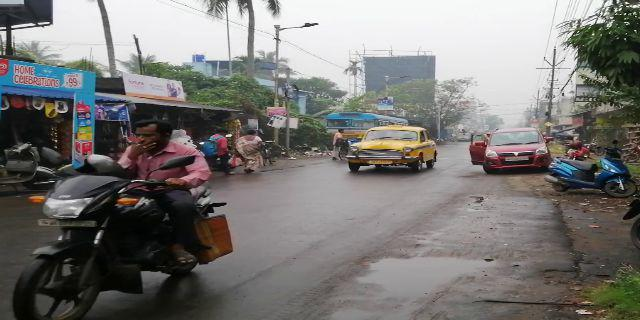Car: (345, 128, 435, 180), (482, 123, 548, 175)
Motorbike: (12, 118, 231, 311), (545, 150, 640, 201)
